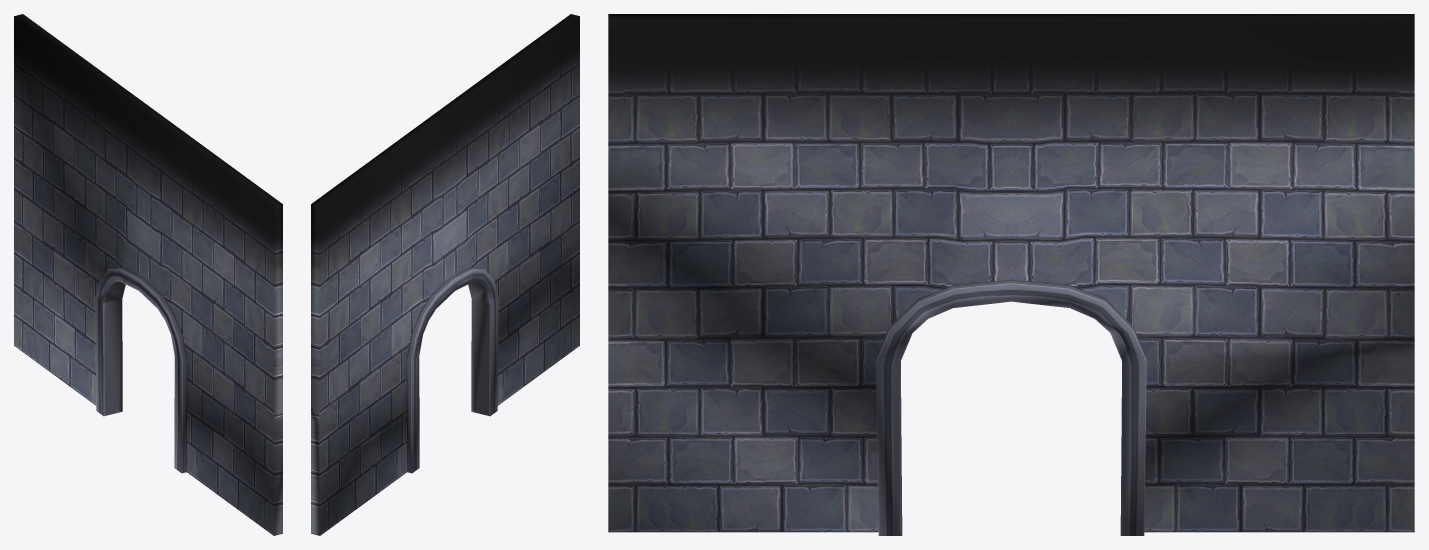
Rendered from dungeon_corridor_door.fbx.
The picture shows the model from 3 angles, left to right: view 1: azimuth 30°, elevation 25°; view 2: azimuth 150°, elevation 25°; view 3: azimuth 270°, elevation 25°; orthographic projection. The views are drawn at different scales.
Parts seen in each view (by area): view 1: suelo.003_Mesh.001; view 2: suelo.003_Mesh.001; view 3: suelo.003_Mesh.001.
Part boxes in pixels (x1,y1,x2,y2): suelo.003_Mesh.001: (14,14,282,535); suelo.003_Mesh.001: (311,14,579,535); suelo.003_Mesh.001: (608,14,1414,535).
Bounding box in the file's own units: 42.31 × 700 × 1000.
